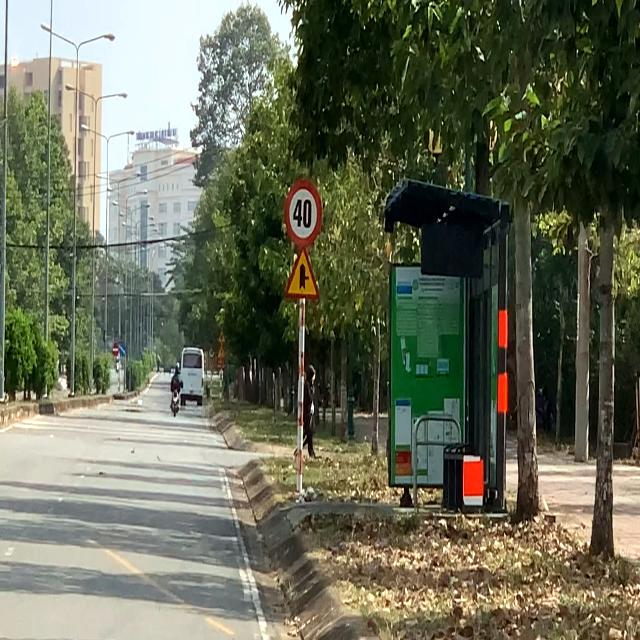P.102: (112, 342, 119, 356)
P.127: (285, 179, 322, 246)
R.302a: (119, 342, 126, 356)
W.207b: (284, 245, 322, 302)
